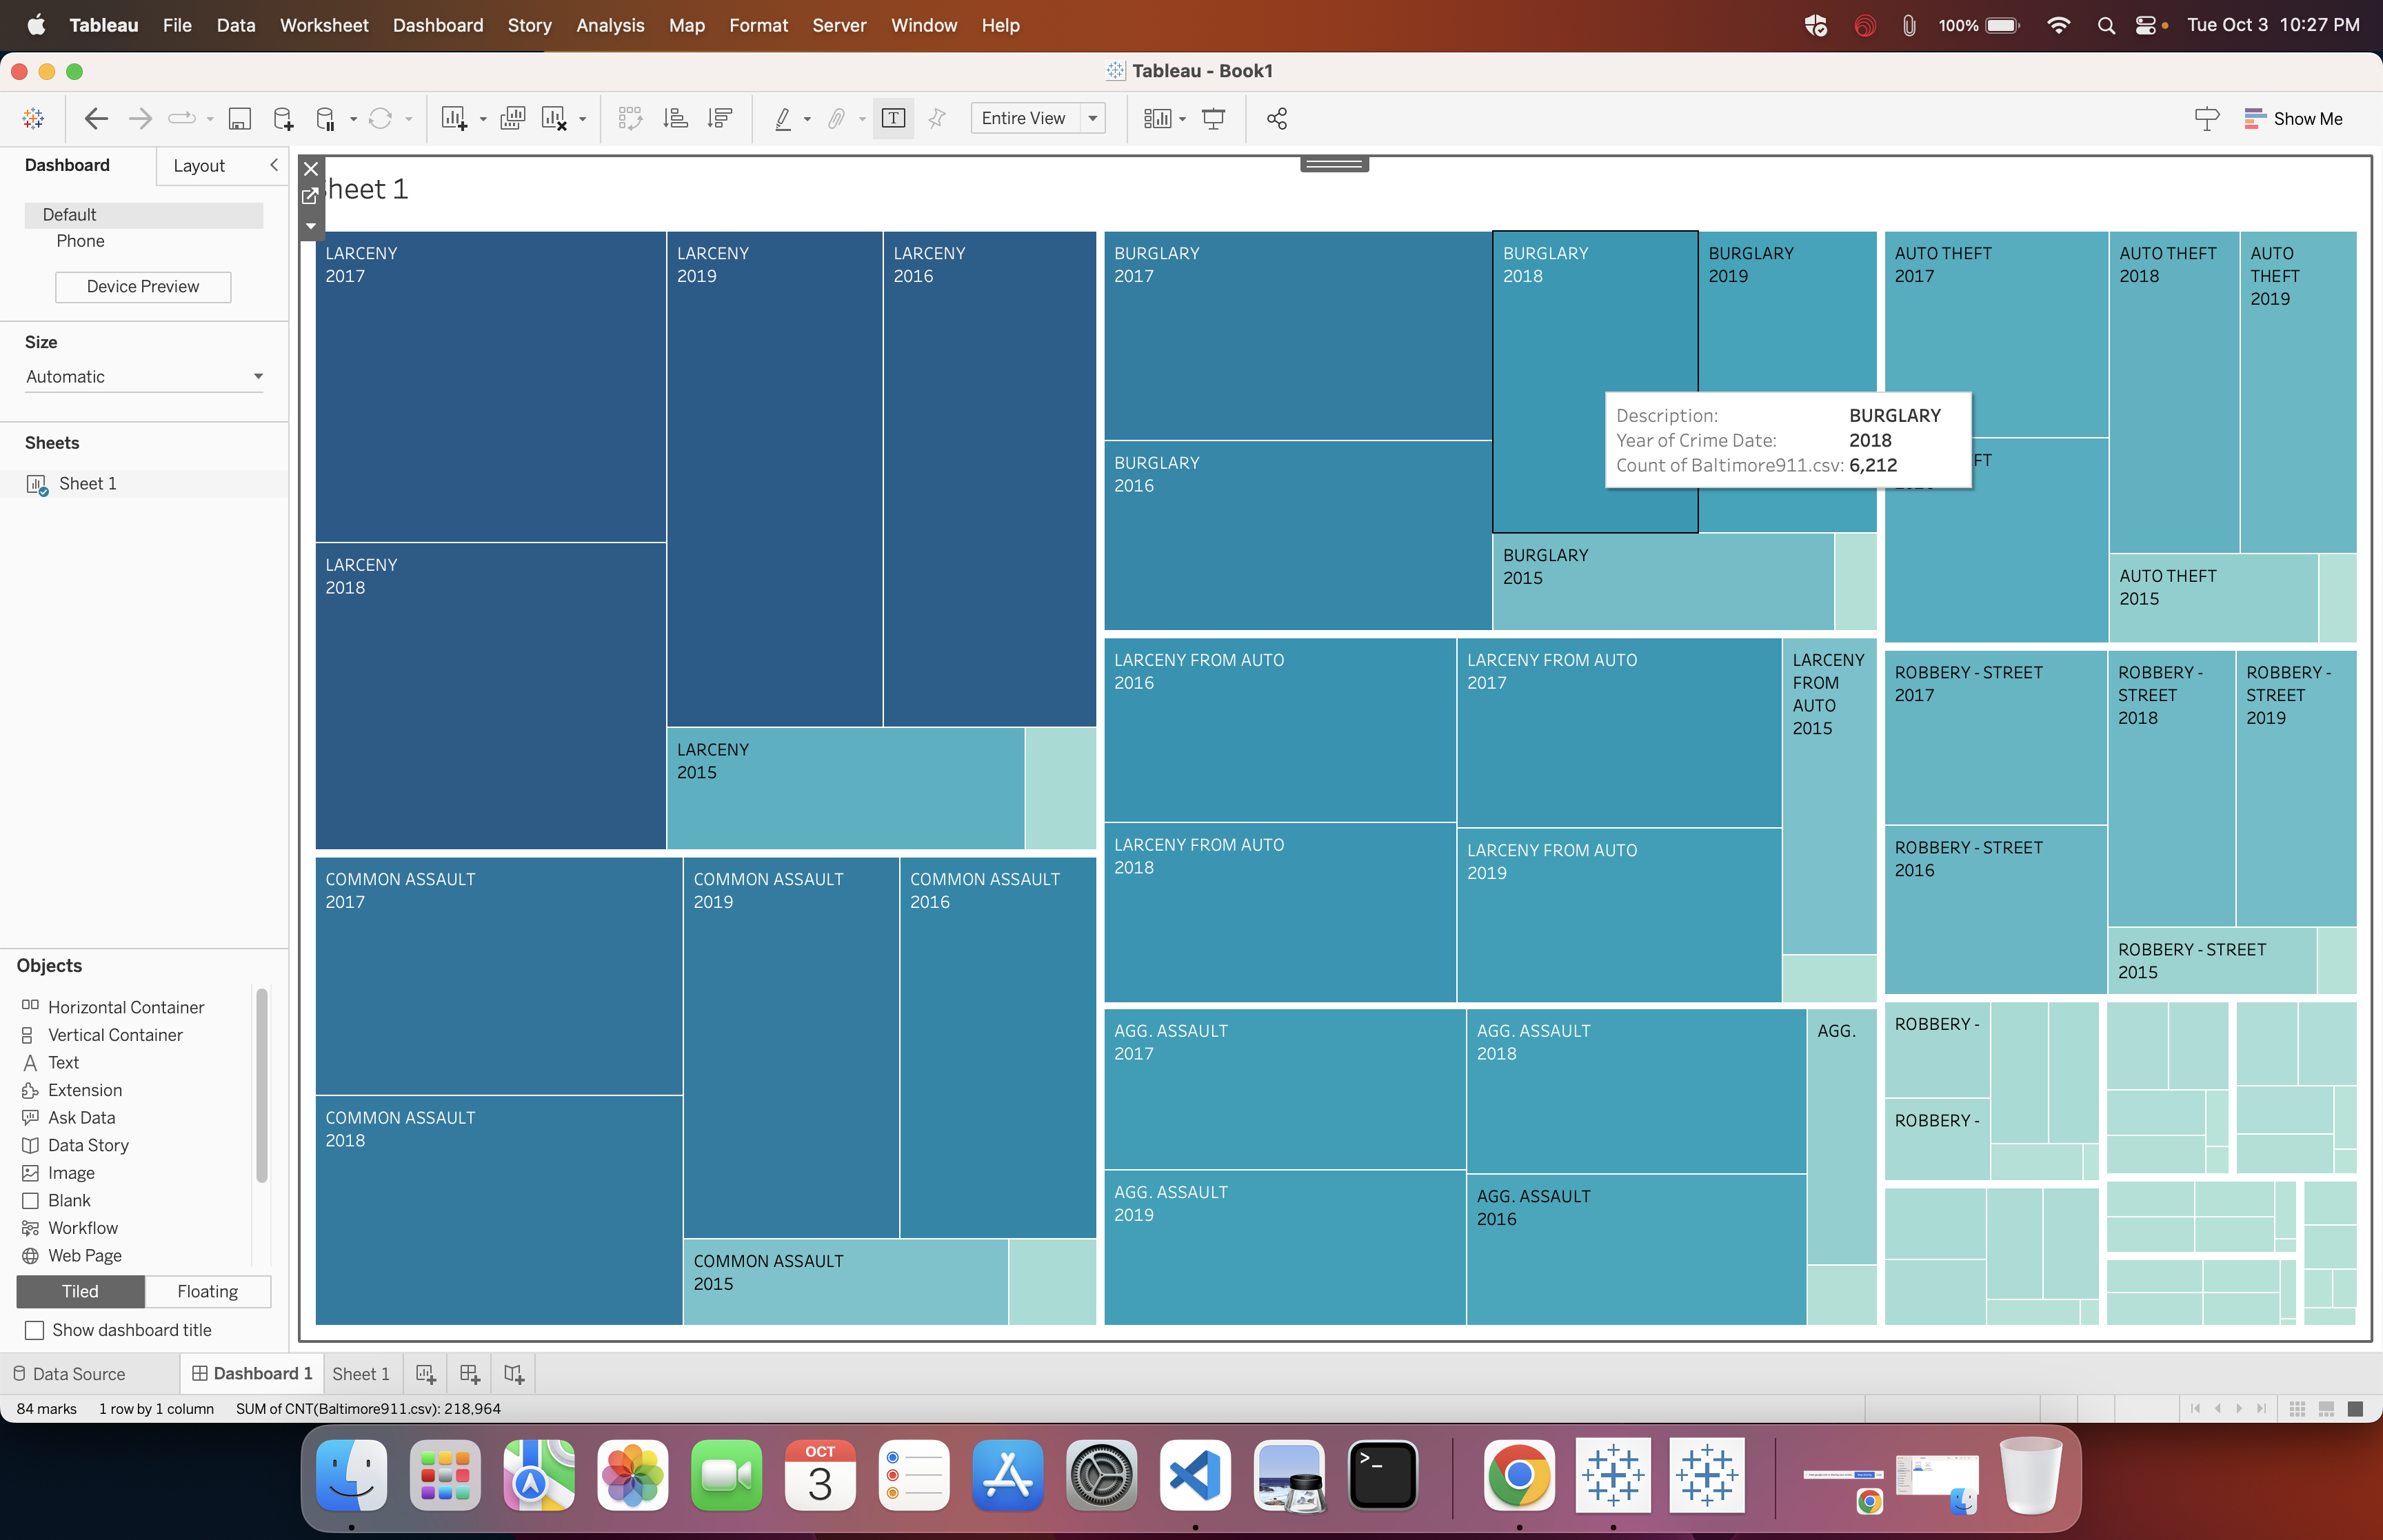

The page's visual inventory and layout, read from the dashboard file:
{"tool":"tableau","page":{"name":"Dashboard 1","canvas":[1000,1000],"units":"permille","ordinal":0},"visuals":[{"type":"worksheet","title":"Sheet 1","mark":"Circle","rows":["Baltimore911.csv_D21EA5A1DF394CF2B379596E421D5C13"],"cols":["CrimeDate"],"box":[5.3,9.2,989.5,981.7]}]}

Visuals, with their boxes on the dashboard's canvas, which has no fixed pixel size, in thousandths of its width and height (x1, y1, x2, y2). These are canvas units, not pixel positions in the 2383x1540 screenshot, which may show the page scaled, cropped or inside an application window:
"Sheet 1" worksheet (Circle marks): BBox(5, 9, 995, 991)
